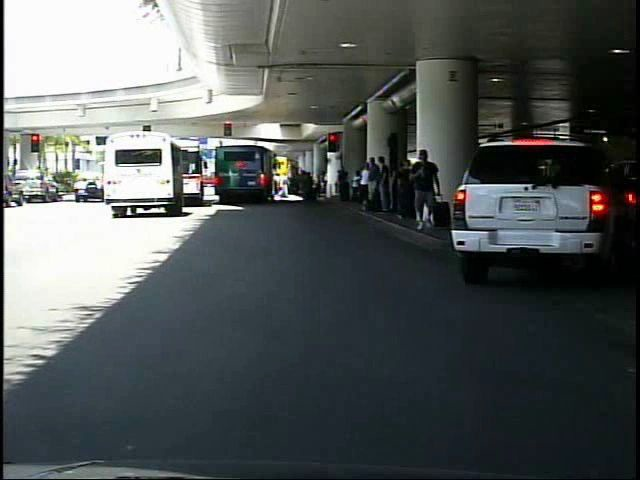person: (410, 149, 441, 235)
